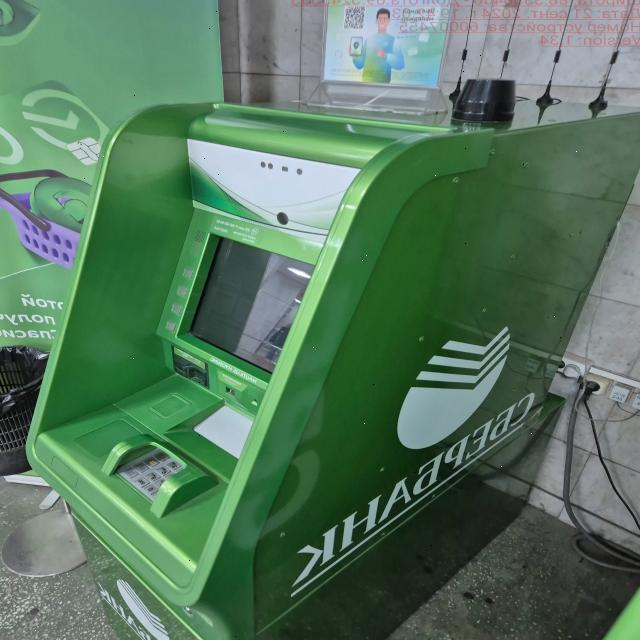bank: (23, 93, 640, 640)
